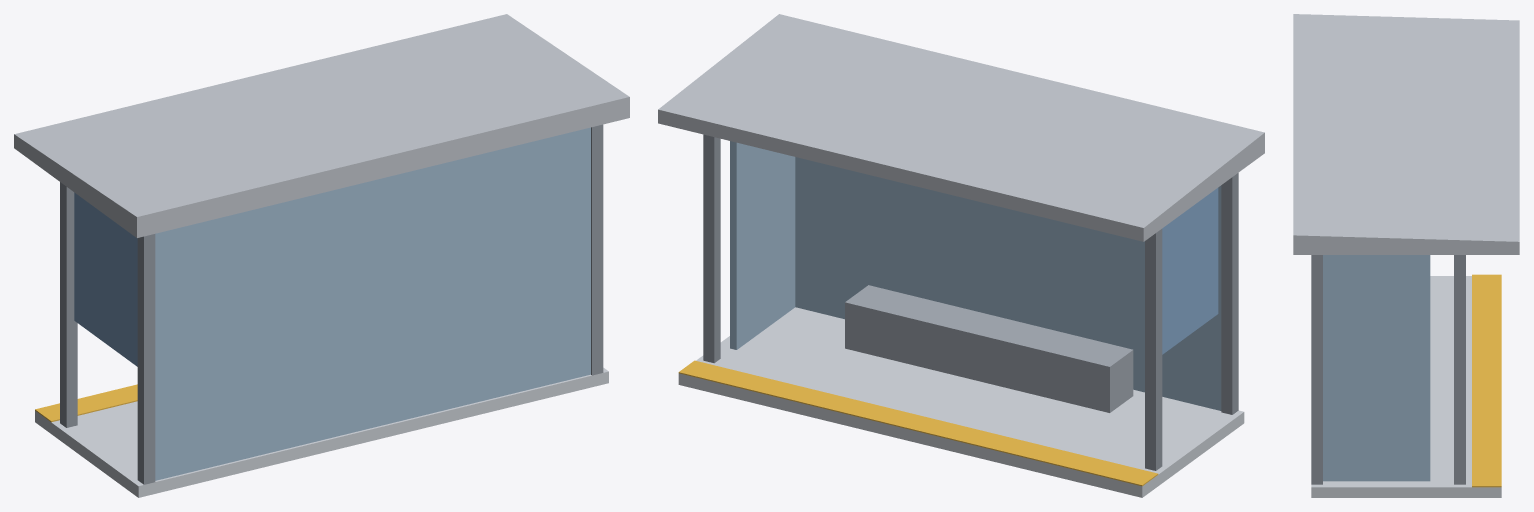
Rendered from bus_stop.glb.
The picture shows the model from 3 angles, left to right: view 1: azimuth 30°, elevation 25°; view 2: azimuth 150°, elevation 25°; view 3: azimuth 270°, elevation 25°; orthographic projection. The views are drawn at different scales.
Visible parts, largest first — view 1: Body; view 2: Body; view 3: Body.
Boxes of the visible parts, x1,y1,x2,y2 form: Body: [14, 14, 629, 497]; Body: [658, 14, 1264, 497]; Body: [1293, 14, 1519, 497].
Size of the model in its own units: 4.4 by 2.48 by 1.9.
